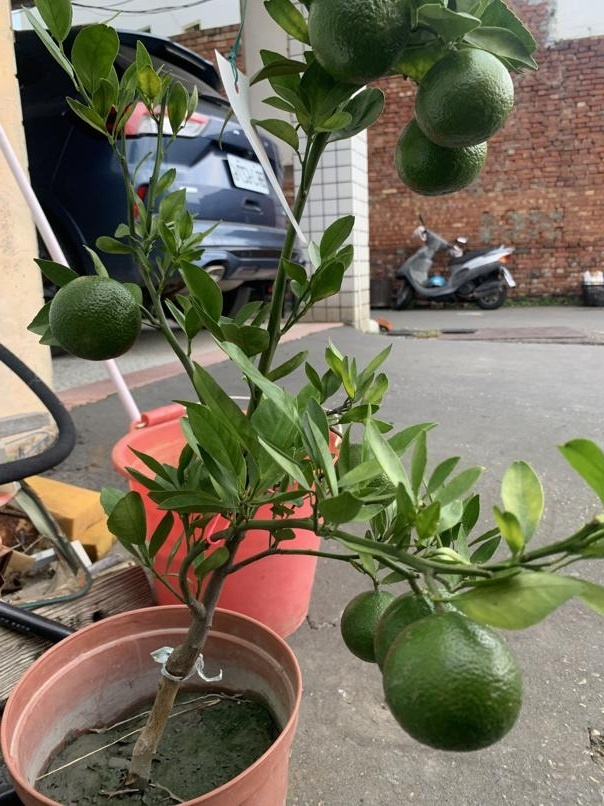Tangerine: (371, 603, 529, 754), (413, 44, 516, 150), (44, 270, 142, 362), (305, 0, 409, 86), (386, 109, 489, 195)
